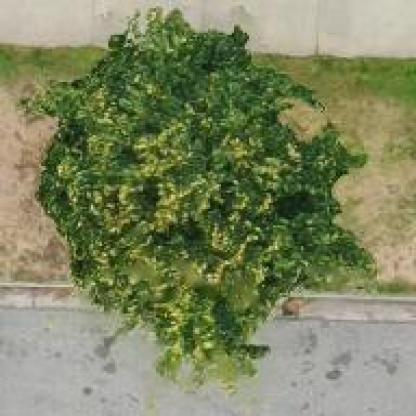Deciduous Tree: (46, 17, 384, 394)
